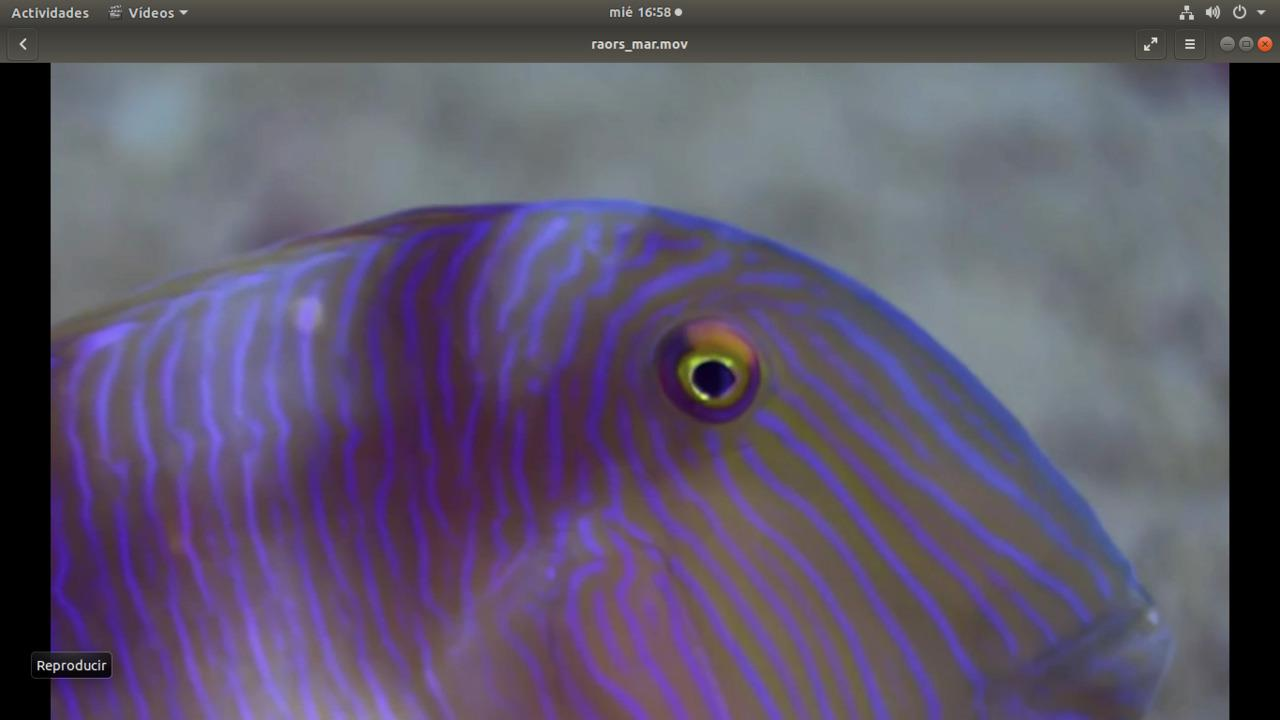raor: (120, 191, 1186, 707)
